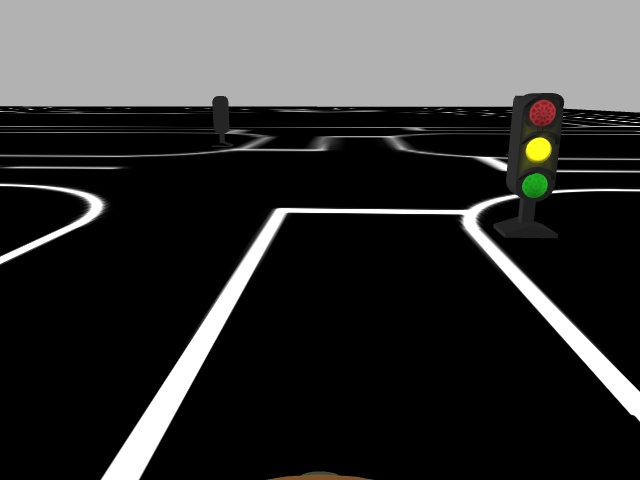yellow_light: (512, 91, 564, 202)
